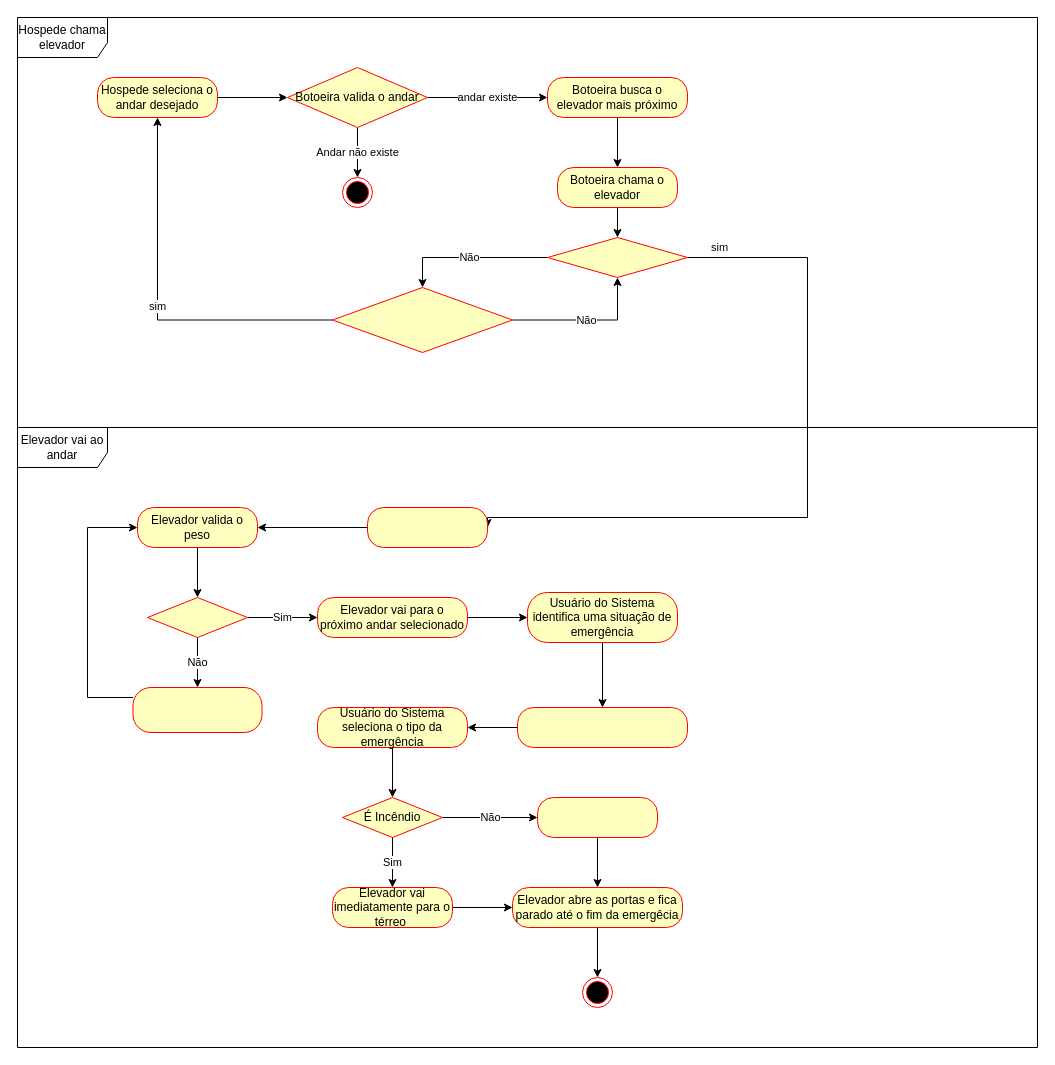
Some shapes in this 1055 by 1065 pixel diagram are drawn without their labels. The centre of each missing label's shape, as x and y in pixels:
"Elevador chegou" goes at (x=617, y=257).
"Elevador emite alerta e fica parado até aliviar o peso" goes at (x=197, y=709).
"Elevador vai para o andar mais próximo" goes at (x=597, y=817).
"Hospedes entram no elevador" goes at (x=427, y=527).
"Mais algum hospede quer selecionar andar" goes at (x=422, y=319).
"Peso apropriado" goes at (x=197, y=617).
"Usuário do Sistema aciona o alarme de emergência" goes at (x=602, y=727).
